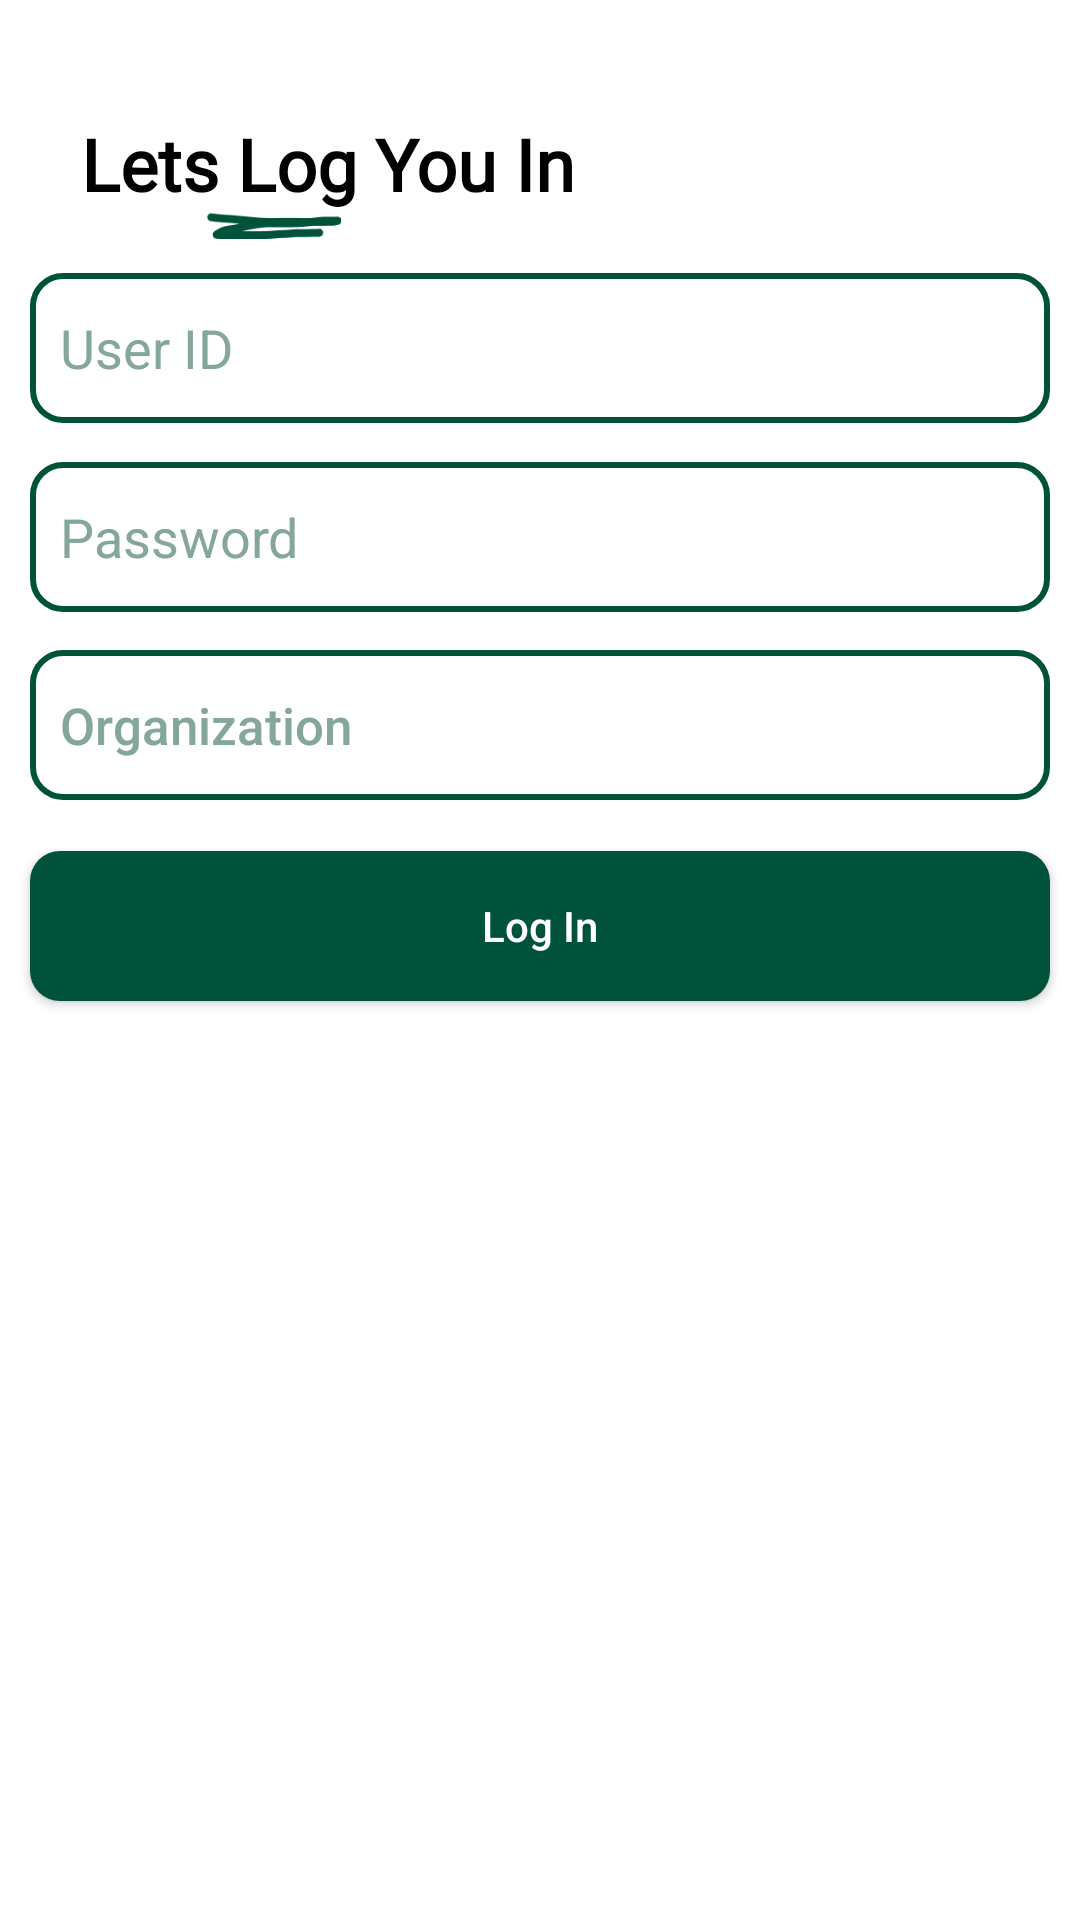

Point at icon controls on the screen. Image size 1080x1920, points as (x=x, y=y).
scribbletwo: (x=274, y=226)
